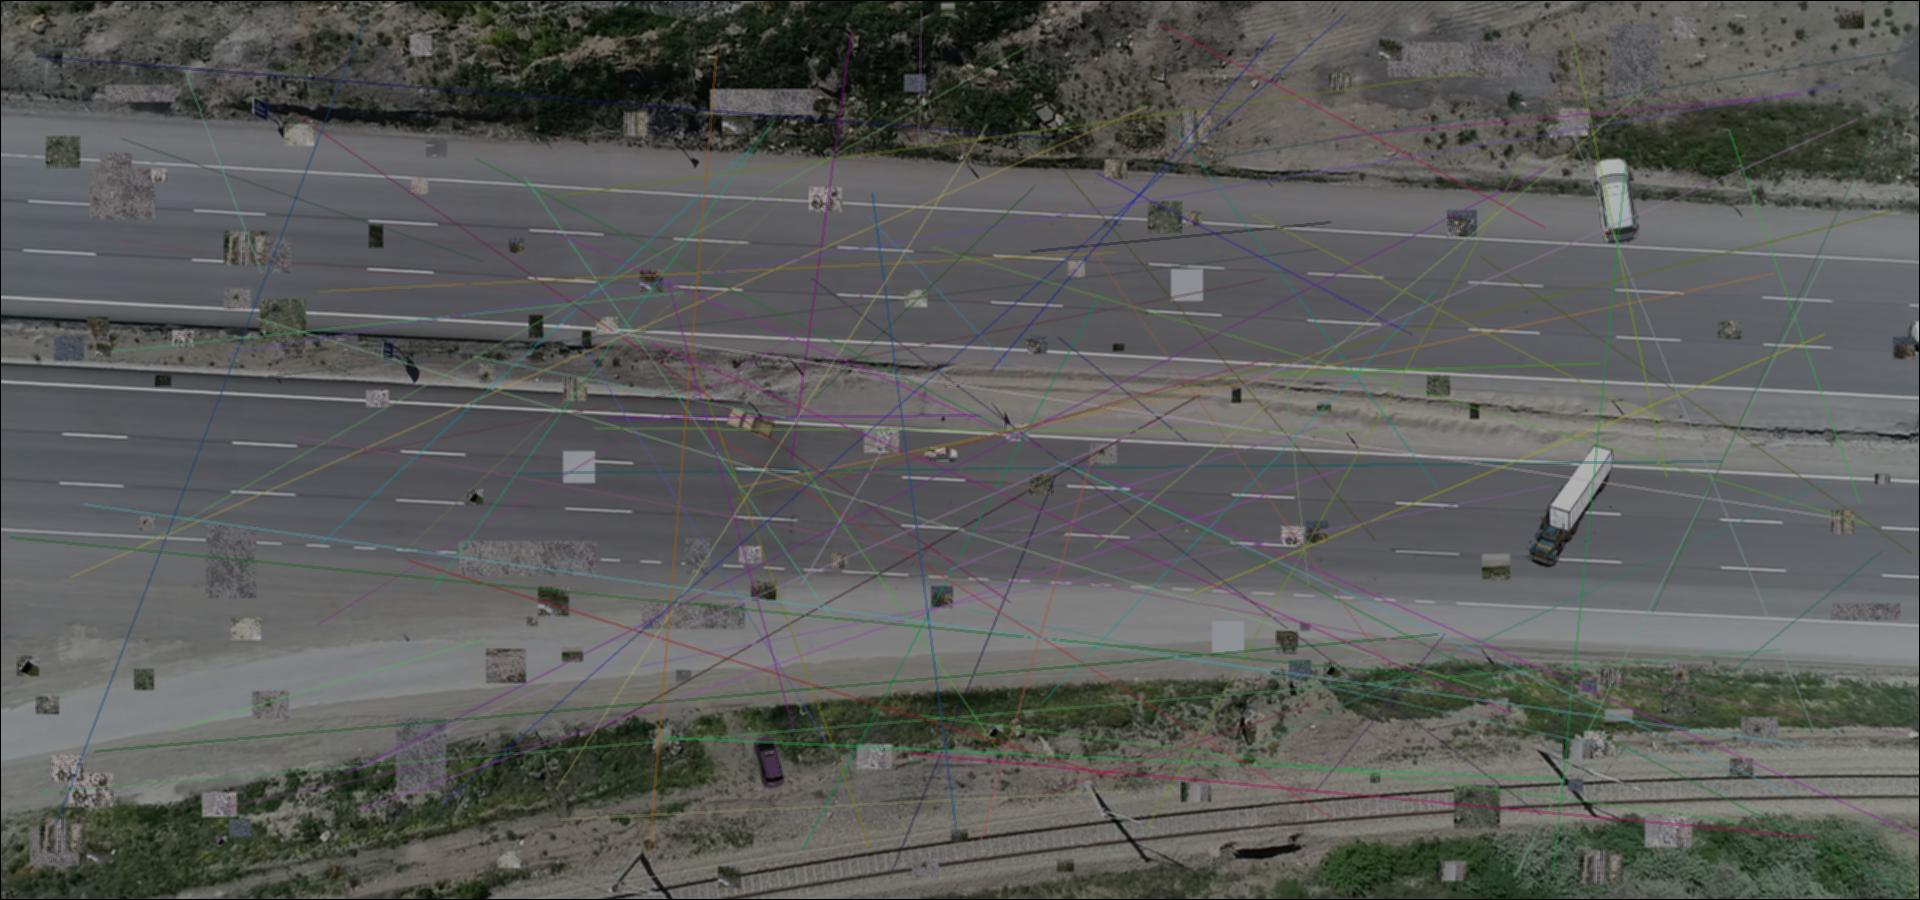arac: (1526, 444, 1614, 569), (1594, 158, 1640, 245), (753, 737, 789, 789), (726, 407, 778, 440), (923, 446, 959, 464)
